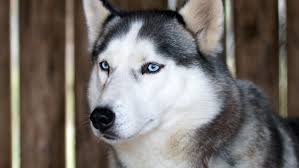Bulldog: (61, 3, 296, 168)
